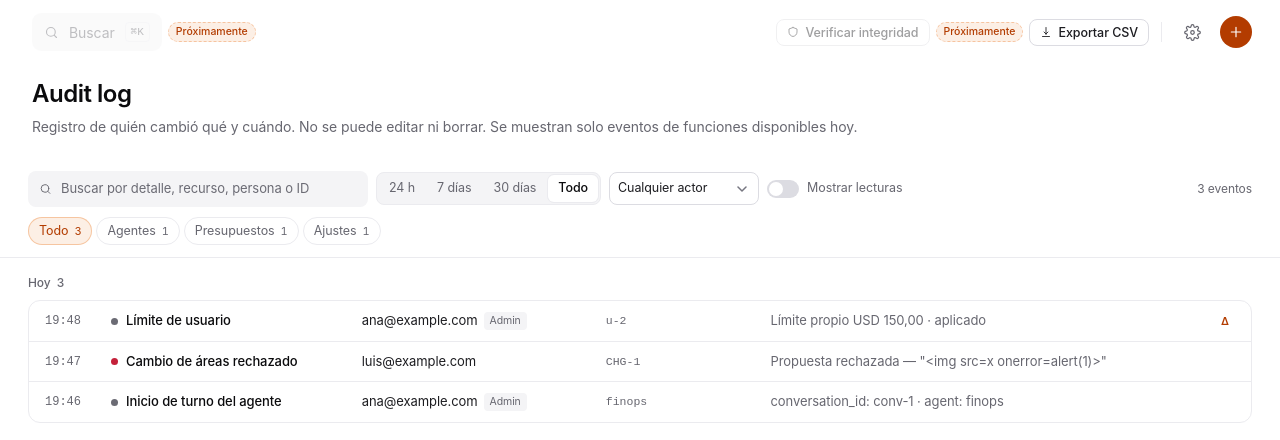
Test: AdminAuditPage › filters by category, actor and search, and clears
The width and height of the screenshot is (1280, 440).
Expected: the text "Límite de usuario" is shown, top-left (111, 312), bottom-right (231, 328)
Click the button "Presupuestos 1": (241,231) top-left (184, 216), bottom-right (299, 245)
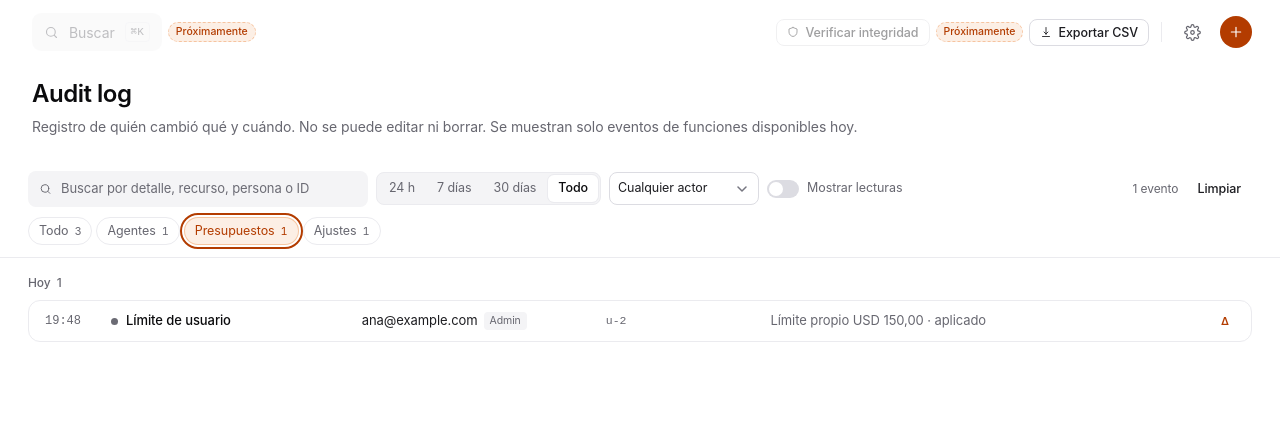
Now the text "1 evento" is shown, box top-left (1132, 180), bottom-right (1178, 198)
Click the button "Limpiar": (1219,189) top-left (1186, 175), bottom-right (1252, 202)
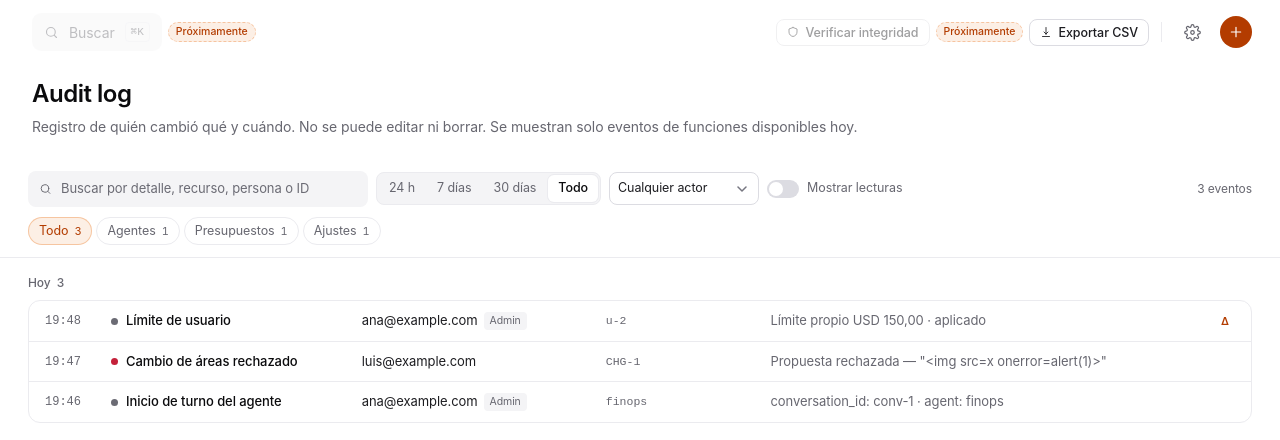
Select "luis@example.com" in the dropdown named "Persona o agente": (684,189) top-left (609, 172), bottom-right (759, 205)
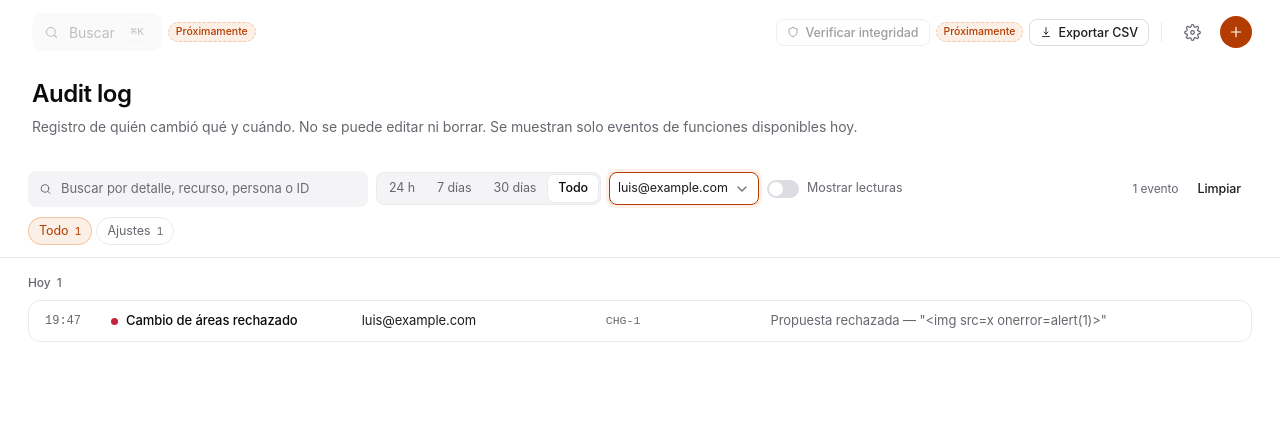
Now the text "1 evento" is shown, box top-left (1132, 180), bottom-right (1178, 198)
Click the button "Limpiar": (1219,189) top-left (1186, 175), bottom-right (1252, 202)
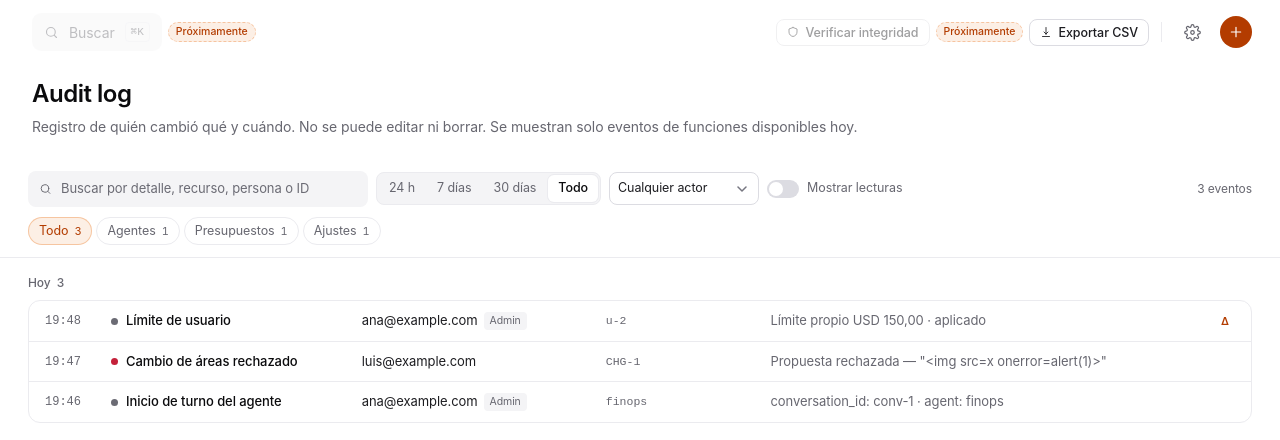
In the field named "Buscar en el audit log": (198,189) top-left (28, 171), bottom-right (368, 206), type "conv-1"
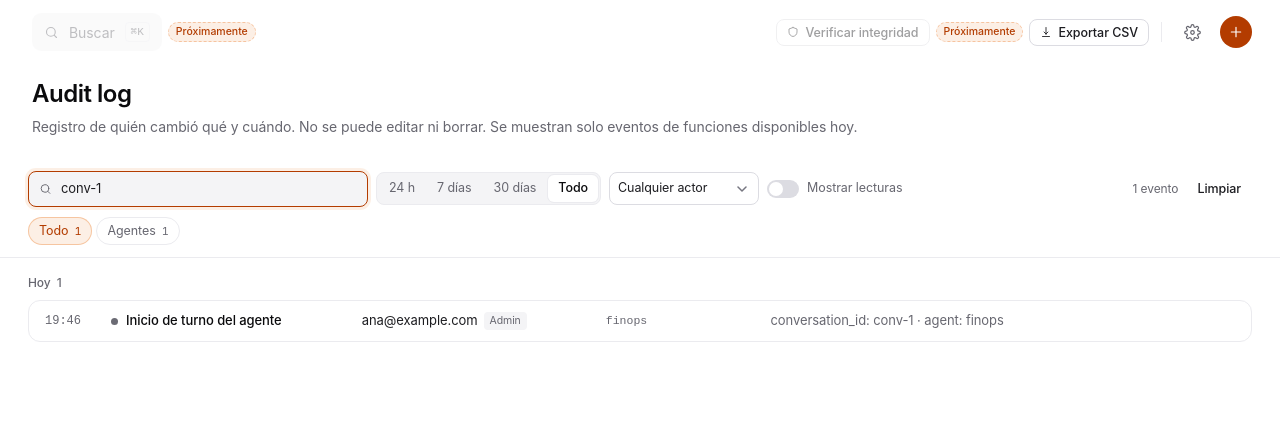
Now the text "1 evento" is shown, box top-left (1132, 180), bottom-right (1178, 198)
